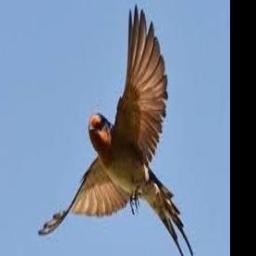Swallow: (37, 5, 193, 256)
